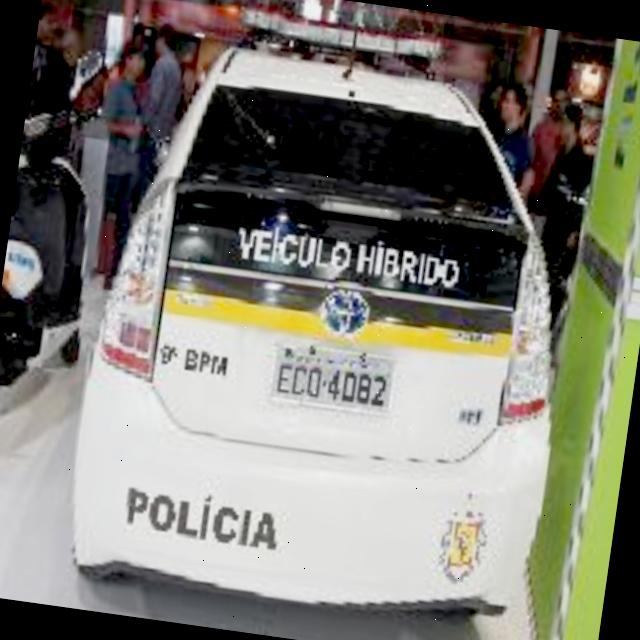emergency: (60, 11, 592, 623)
